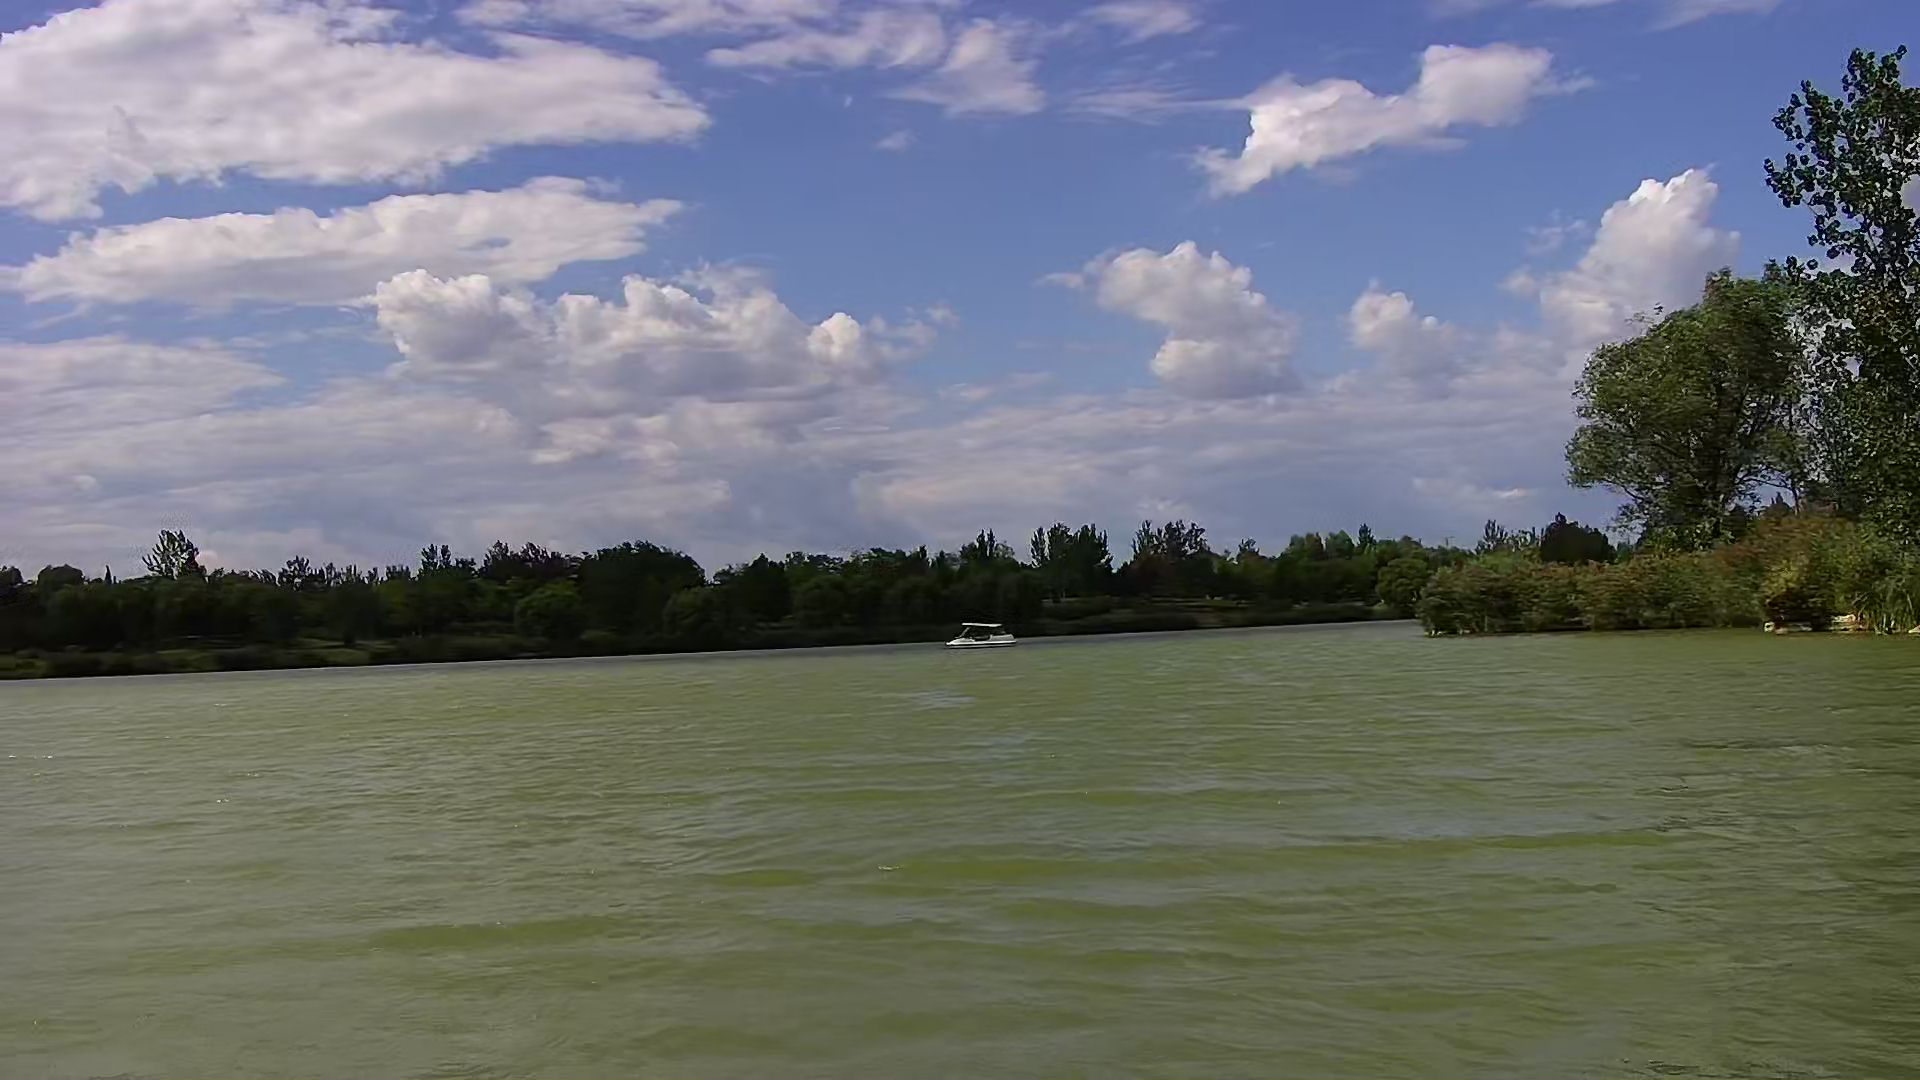boat: (942, 616, 1023, 655)
